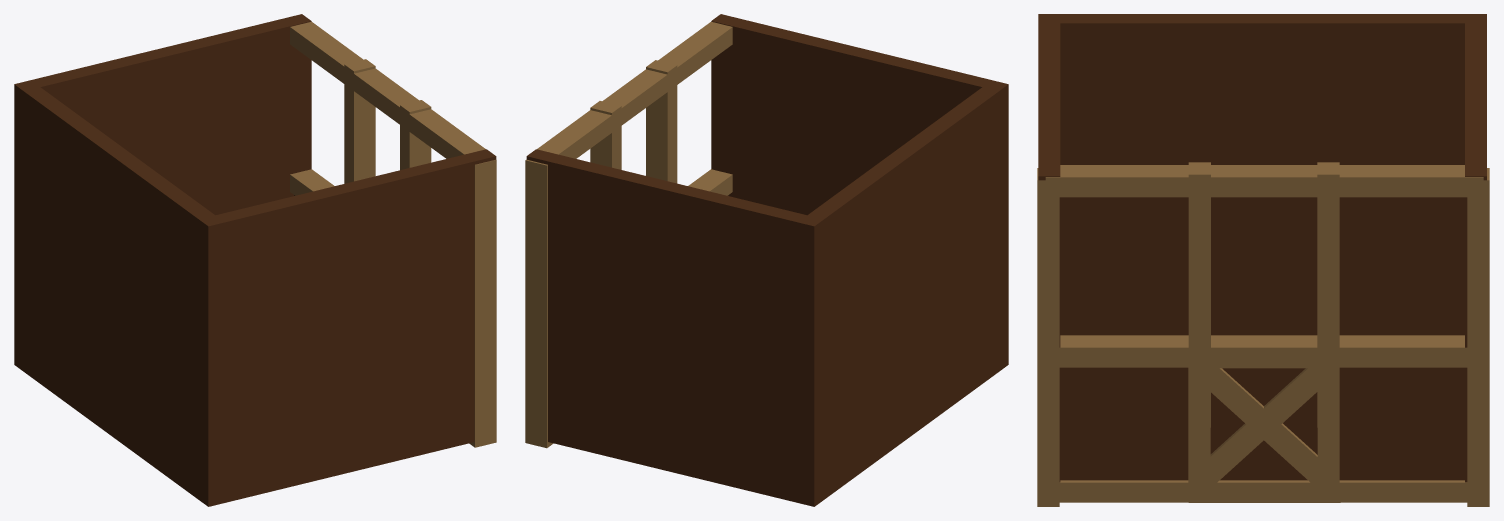
File: Stable.fbx
3 renders of one model, left to right at view 1: azimuth 30°, elevation 25°; view 2: azimuth 150°, elevation 25°; view 3: azimuth 270°, elevation 25°, orthographic. The views are drawn at different scales.
Visible parts, largest first — view 1: Cube.019; view 2: Cube.019; view 3: Cube.019.
Boxes of the visible parts, box(x1,y1,x2,y2) form: Cube.019: box(14, 14, 496, 506); Cube.019: box(525, 14, 1008, 506); Cube.019: box(1037, 14, 1489, 506).
Bounding box in the file's own units: 954 × 911 × 1123.
